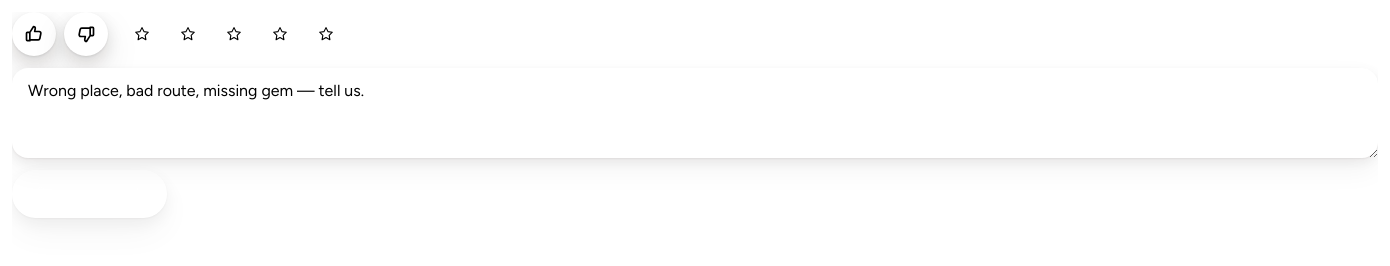
Test: TripFeedbackPanel — composer › appends " with note" to the "Saved:" line only when the row carries a comment
Click the radio button named "4 stars".
click(280, 34)  # box [258,12,302,56]
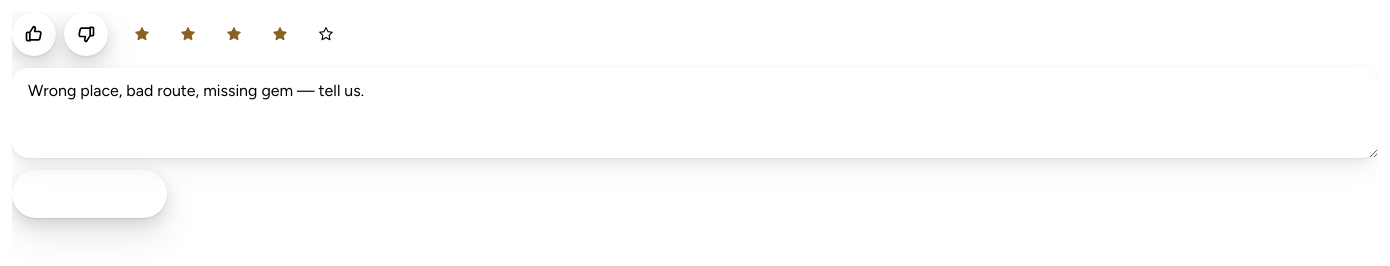
Click the button "Send feedback".
click(89, 194)  # box [12,170,167,218]
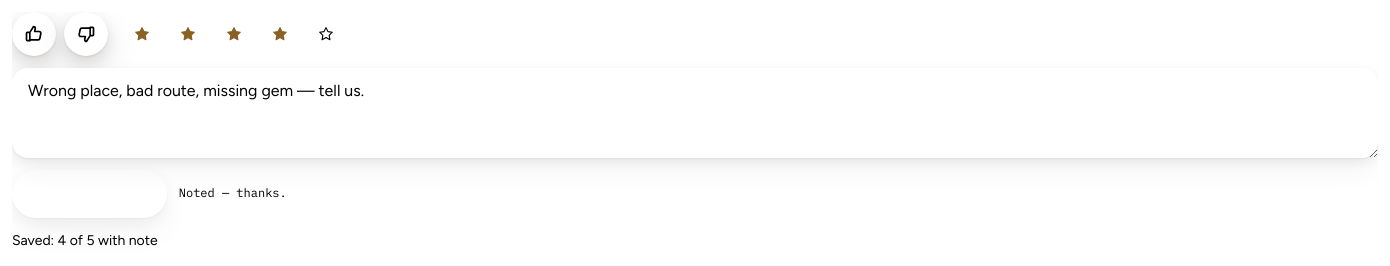
Expected: the text "Saved: 4 of 5 with note" is shown, [12,232,158,249]
